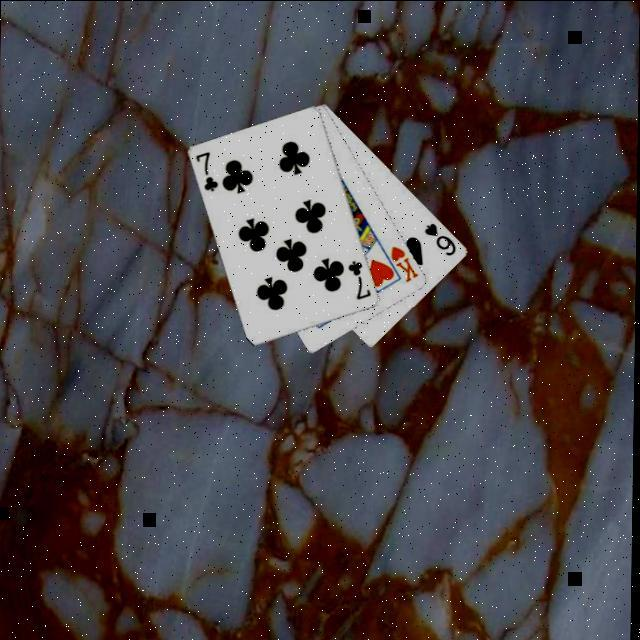6S: (423, 221, 461, 259)
7C: (346, 258, 377, 304), (194, 149, 224, 195)
KH: (389, 244, 424, 286)
